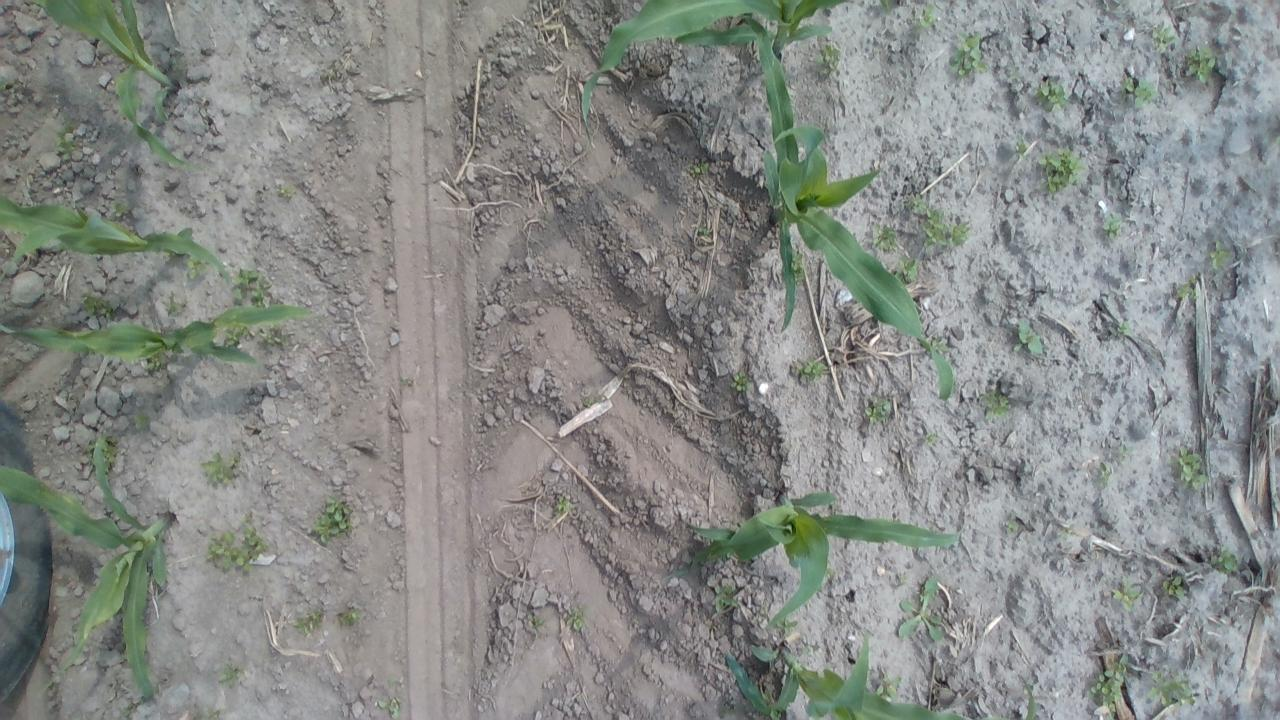Maize: (746, 25, 957, 406), (0, 436, 174, 705), (578, 1, 866, 152), (684, 488, 964, 630), (32, 1, 208, 182), (2, 300, 316, 374), (0, 196, 238, 293), (723, 631, 979, 720)
Weeds: (895, 574, 948, 646), (204, 520, 266, 575), (908, 195, 972, 248), (1088, 654, 1132, 715), (1036, 146, 1084, 195), (311, 494, 358, 544), (1147, 672, 1200, 710), (949, 32, 989, 82), (1171, 445, 1212, 490), (199, 450, 245, 488), (230, 268, 273, 307), (1120, 75, 1160, 112), (1012, 317, 1048, 357), (1183, 46, 1217, 86), (1035, 78, 1069, 113), (1110, 576, 1143, 612), (78, 290, 119, 318), (812, 42, 844, 77), (872, 672, 908, 701), (378, 677, 407, 713), (52, 128, 80, 164), (982, 388, 1013, 420), (868, 223, 901, 253), (796, 354, 830, 383), (862, 396, 894, 426), (1158, 570, 1190, 600), (292, 606, 326, 634), (1207, 238, 1232, 274), (1150, 22, 1178, 54), (1211, 546, 1240, 576), (713, 583, 741, 614), (216, 662, 245, 690), (562, 603, 587, 634), (378, 690, 406, 717), (260, 329, 290, 354), (98, 437, 122, 467), (896, 254, 919, 285), (337, 603, 365, 628), (222, 324, 250, 349), (914, 1, 937, 31), (1174, 276, 1199, 302), (183, 256, 209, 280), (1100, 214, 1124, 240), (790, 250, 809, 282), (1110, 318, 1134, 342), (730, 370, 751, 396), (106, 200, 133, 220), (554, 492, 576, 516), (129, 408, 152, 430), (1112, 442, 1136, 463), (164, 296, 189, 316), (526, 611, 548, 633), (688, 160, 712, 180), (274, 183, 298, 203), (195, 704, 228, 718), (1097, 463, 1114, 489), (1012, 136, 1030, 160), (144, 355, 168, 373), (44, 676, 61, 700), (1002, 514, 1021, 534), (801, 638, 816, 662), (781, 618, 800, 636), (921, 430, 941, 447), (694, 222, 712, 240), (321, 64, 337, 82), (401, 373, 416, 389), (931, 336, 948, 350), (580, 395, 596, 408), (1058, 528, 1071, 542)
